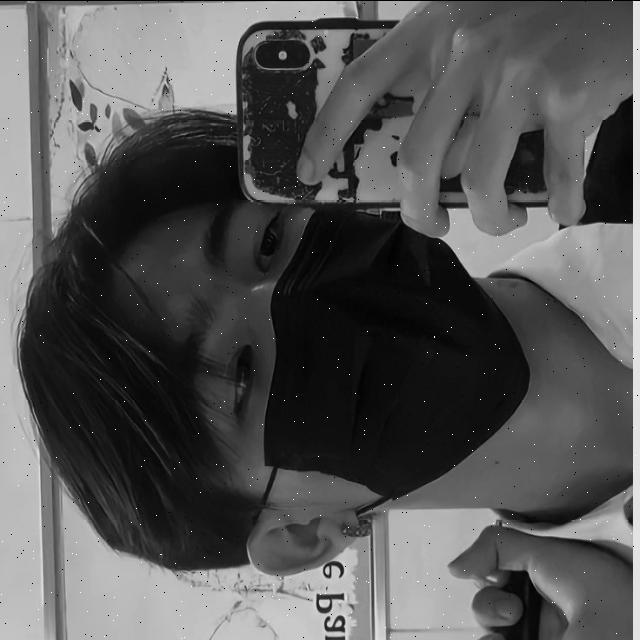face_mask: (126, 188, 488, 570)
